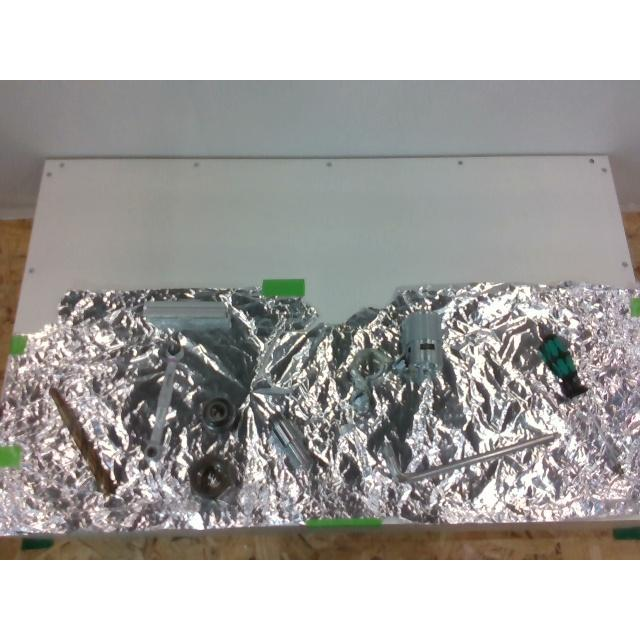AllenKey: (396, 432, 560, 481)
Axis2: (264, 412, 312, 472)
Bearing2: (201, 397, 237, 433)
Drill: (48, 386, 115, 496)
F20_20_G: (143, 298, 231, 332)
Housing: (350, 346, 402, 416)
M30: (188, 449, 236, 498)
Motor2: (402, 310, 442, 382)
Screwdriver: (538, 324, 622, 474)
Wrench: (145, 352, 183, 461)
